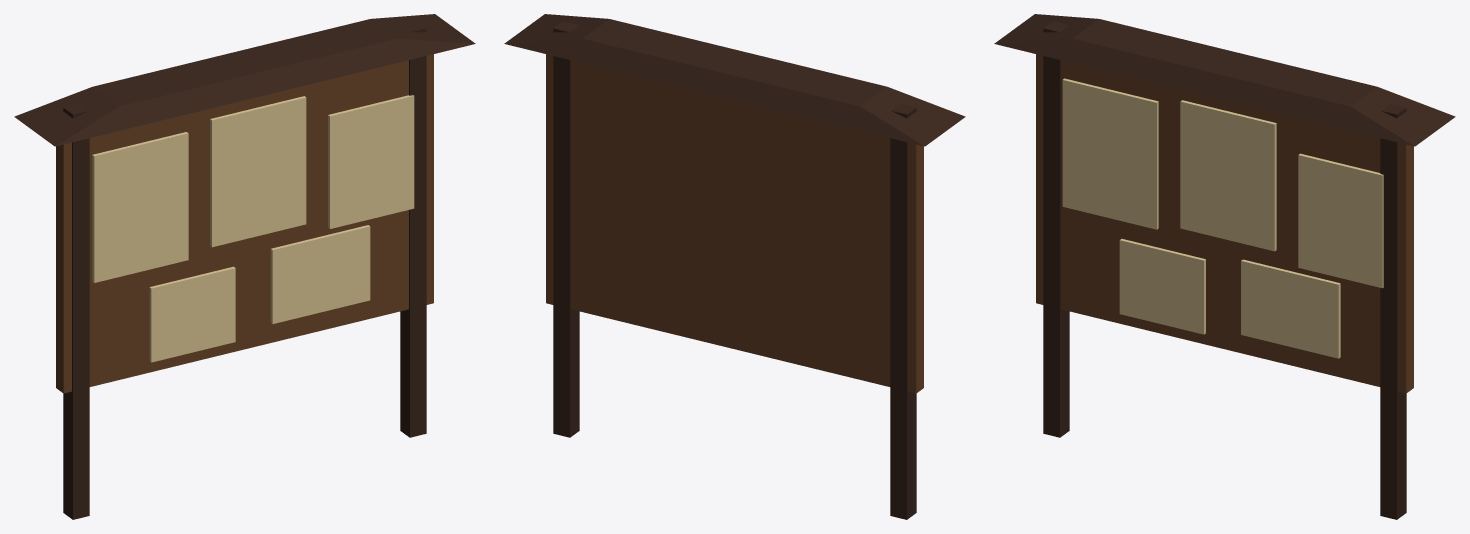
The model's file is SM_Prop_BountyBoard_LQ.glb.
3 views of the same model, side by side, from view 1: azimuth 30°, elevation 25°; view 2: azimuth 150°, elevation 25°; view 3: azimuth 330°, elevation 25° (orthographic).
Parts seen in each view (by area): view 1: SM_Prop_BountyBoard_LQ; view 2: SM_Prop_BountyBoard_LQ; view 3: SM_Prop_BountyBoard_LQ.
Boxes of the visible parts, <box> form: SM_Prop_BountyBoard_LQ: <box>14,14,475,519</box>; SM_Prop_BountyBoard_LQ: <box>504,14,965,519</box>; SM_Prop_BountyBoard_LQ: <box>994,14,1455,519</box>.
Size of the model in its own units: 2.5 by 2.33 by 0.42.
Materials: 1 (1 with a texture image).
